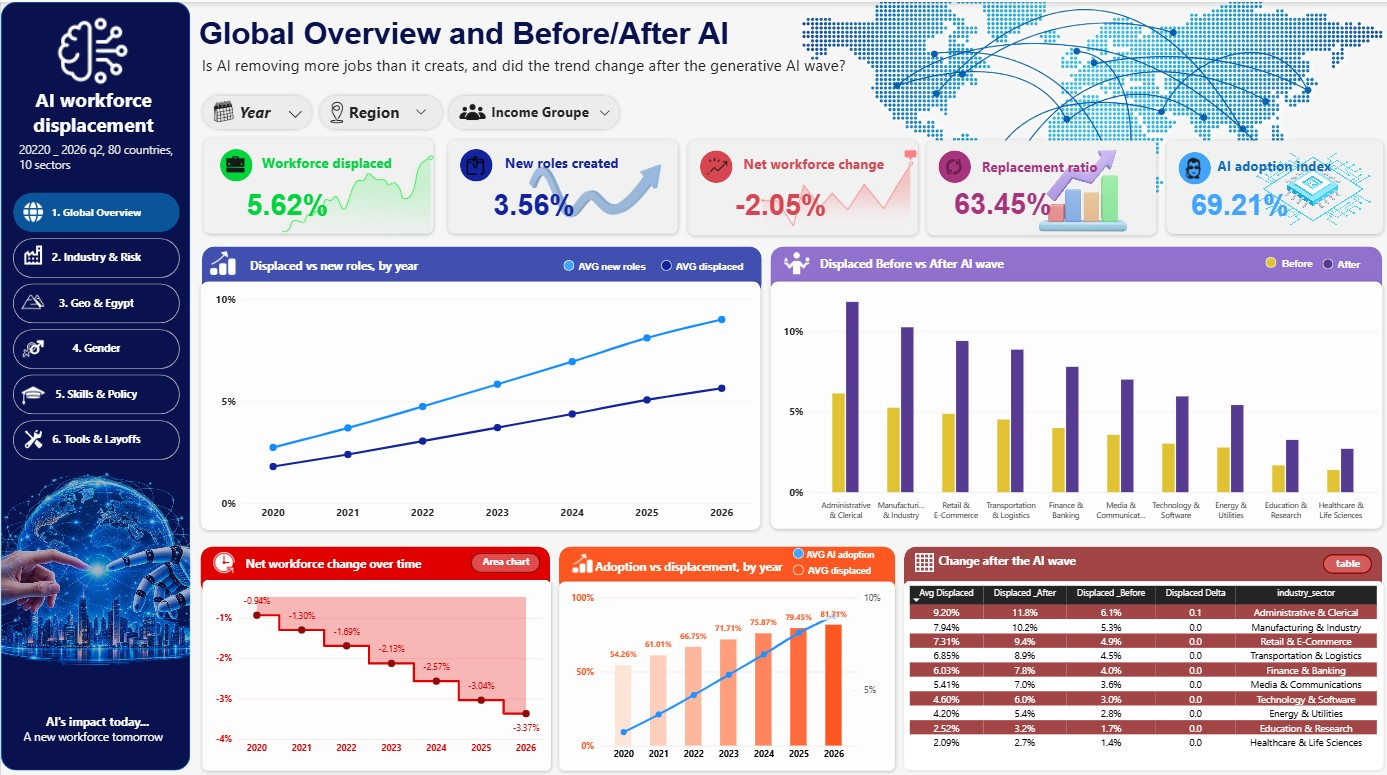

Layout of this report page (visuals, bound fields, positions):
{"tool":"powerbi","page":{"name":"1. Global Overview","canvas":[1920,1080],"ordinal":0},"visuals":[{"type":"shape","box":[0,0,262,1063.9],"z":0},{"type":"image","box":[1103,0,818,312.5],"z":1000},{"type":"textbox","box":[273.5,18.7,776.1,70.1],"z":2000},{"type":"shape","box":[274.4,124.4,161.1,56.7],"z":3000},{"type":"textbox","box":[278,73,958.2,46],"z":4000},{"type":"slicer","fields":{"Values":["year.year Hierarchy.year"]},"box":[295,132.5,133,44],"z":5000},{"type":"shape","box":[435.6,124.4,180,56.7],"z":6000},{"type":"image","box":[437.5,135,52.2,36.7],"z":7000},{"type":"slicer","fields":{"Values":["country.region"]},"box":[448.8,133.8,150,36.2],"z":8000},{"type":"shape","box":[615.6,124.4,246.7,56.7],"z":9000},{"type":"slicer","fields":{"Values":["country.income_group"]},"box":[656.7,135,196.7,36.7],"z":10000},{"type":"image","box":[627.5,133.8,51.1,36.7],"z":11000},{"type":"shape","box":[275,183,330.9,144.8],"z":12000},{"type":"textbox","box":[362.3,210.2,197.6,29.9],"z":13000},{"type":"shape","box":[302.7,204.2,45,45],"z":14000},{"type":"image","box":[367,208,257.1,117.1],"z":15000},{"type":"image","box":[310,210,30,33],"z":16000},{"type":"cardVisual","fields":{"Data":["_Measures.Avg Displaced"]},"box":[311.4,238.6,170,84.3],"z":17000},{"type":"shape","box":[612.7,185.3,330.9,142.5],"z":18000},{"type":"textbox","box":[697.7,210.6,176.9,29.9],"z":19000},{"type":"shape","box":[634.7,203.7,45,45],"z":20000},{"type":"image","box":[702.9,194.3,232.9,127.1],"z":21000},{"type":"image","box":[642,211,30,33],"z":22000},{"type":"shape","box":[318.8,137.5,27.5,35],"z":23000},{"type":"cardVisual","fields":{"Data":["_Measures.Avg New Roles"]},"box":[655.7,238.6,164.3,82.9],"z":24000},{"type":"image","box":[272.5,133.8,73.3,37.8],"z":25000},{"type":"textbox","box":[330,137.5,50,30],"z":26000},{"type":"shape","box":[680,137.5,25,35],"z":27000},{"type":"shape","box":[473.8,135,31.2,35],"z":28000},{"type":"textbox","box":[482.5,137.5,77.5,28.8],"z":29000},{"type":"textbox","box":[678.8,140,138.9,28.9],"z":30000},{"type":"shape","box":[944.3,185.7,330.9,144.8],"z":31000},{"type":"textbox","box":[1028.6,212.9,207.1,30],"z":32000},{"type":"shape","box":[968.6,205.7,45,45],"z":33000},{"type":"image","box":[975.6,211.1,30,33],"z":34000},{"type":"image","box":[1044.3,192.9,231.4,130],"z":35000},{"type":"cardVisual","fields":{"Data":["_Measures.Avg Net Change"]},"box":[995.7,238.6,170,84.3],"z":36000},{"type":"shape","box":[1275.7,185.7,330.9,144.8],"z":37000},{"type":"shape","box":[1297.1,205.7,45,45],"z":38000},{"type":"image","box":[1412.9,194.3,172.9,132.9],"z":39000},{"type":"image","box":[1305,212.5,30,33],"z":40000},{"type":"cardVisual","fields":{"Data":["_Measures.Replacement Ratio"]},"box":[1302.9,237.1,170,84.3],"z":41000},{"type":"textbox","box":[1358.6,215.7,197.6,29.9],"z":42000},{"type":"shape","box":[1607.1,185.7,312.9,142.9],"z":43000},{"type":"shape","box":[1630,207.1,45,45],"z":44000},{"type":"image","box":[1732.9,197.1,172.9,124.3],"z":45000},{"type":"image","box":[1637.5,213.8,30,33],"z":46000},{"type":"cardVisual","fields":{"Data":["_Measures.Avg AI Adoption"]},"box":[1630,238.6,170,84.3],"z":47000},{"type":"textbox","box":[1684.3,214.3,205.7,31.4],"z":48000},{"type":"shape","box":[278,338,775,68],"z":49000},{"type":"image","box":[284.9,342.4,45.7,40],"z":50000},{"type":"textbox","box":[344,354,348.6,31.4],"z":51000},{"type":"shape","box":[270,380,788,357.5],"z":52000},{"type":"lineChart","fields":{"Category":["year.year Hierarchy.year"],"Y":["_Measures.Avg Displaced","_Measures.Avg New Roles"]},"box":[280.3,386,775,351.6],"z":53000},{"type":"textbox","box":[934.4,355.3,97.1,31.4],"z":54000},{"type":"shape","box":[913,357.7,15,15],"z":55000},{"type":"textbox","box":[799,355.7,97.1,31.4],"z":56000},{"type":"shape","box":[779.4,357.4,15,15],"z":57000},{"type":"shape","box":[1066,338,847,69],"z":58000},{"type":"image","box":[1079.3,343,43,37],"z":59000},{"type":"textbox","box":[1133.3,352,348.6,31.4],"z":60000},{"type":"shape","box":[1060,380,860,356],"z":61000},{"type":"textbox","box":[1850,352.2,48.3,26.7],"z":62000},{"type":"shape","box":[1829.3,354.9,15,15],"z":63000},{"type":"textbox","box":[1773.2,351.8,46.4,21.4],"z":64000},{"type":"shape","box":[1750,353.6,15,15],"z":65000},{"type":"clusteredColumnChart","fields":{"Category":["sector.industry_sector"],"Y":["_Measures.Displaced _Before","_Measures.Displaced _After"]},"box":[1066.7,388.3,853.3,348.3],"z":66000},{"type":"shape","box":[277.1,754.3,484,67.1],"z":67000},{"type":"image","box":[291.1,760,36,32],"z":68000},{"type":"textbox","box":[338.3,766.7,266.7,26.7],"z":69000},{"type":"shape","box":[271.1,793.3,496,277.8],"z":70000},{"type":"shape","box":[650.2,762.1,97.1,28.6],"z":71000},{"type":"textbox","box":[667.5,763.8,80,25.7],"z":72000},{"type":"lineChart","fields":{"Category":["year.year"],"Y":["_Measures.Avg Net Change"]},"box":[280,802.5,487.5,260],"z":73000},{"type":"shape","box":[772.2,754.4,465.7,65.7],"z":74000},{"type":"image","box":[786.4,761.4,36,32],"z":75000},{"type":"textbox","box":[823.3,770,278.3,31.7],"z":76000},{"type":"shape","box":[765.7,795.7,478,275.7],"z":77000},{"type":"lineStackedColumnComboChart","fields":{"Category":["year.year"],"Y":["_Measures.Avg AI Adoption"],"Y2":["_Measures.Avg Displaced"]},"box":[772.2,802.2,463.3,268.9],"z":78000},{"type":"textbox","box":[1116.7,776.2,97.1,31.4],"z":79000},{"type":"shape","box":[1097.1,778.1,15,15],"z":80000},{"type":"textbox","box":[1115.2,754.8,114.3,31.4],"z":81000},{"type":"shape","box":[1096.2,756.7,15,15],"z":82000},{"type":"shape","box":[1250,754.4,662.2,66.7],"z":83000},{"type":"image","box":[1261.1,760,36,32],"z":84000},{"type":"textbox","box":[1298.9,762.2,348.6,31.4],"z":85000},{"type":"shape","box":[1828.9,763.3,68.9,27.8],"z":86000},{"type":"textbox","box":[1847.8,766.7,41.1,25.6],"z":87000},{"type":"tableEx","fields":{"Values":["_Measures.Avg Displaced","_Measures.Displaced _After","_Measures.Displaced _Before","_Measures.Displaced Delta","sector.industry_sector"]},"box":[1250,802.2,664,262],"z":88000},{"type":"image","box":[62,13.8,131,105.7],"z":89000},{"type":"textbox","box":[36.8,117.2,181.5,87.3],"z":90000},{"type":"textbox","box":[24.3,192.9,227.1,61.4],"z":91000},{"type":"textbox","box":[61.7,985,143.3,25],"z":92000},{"type":"textbox","box":[31.7,1005,203.3,33.3],"z":93000},{"type":"image","box":[0,641.1,262,291.8],"z":94000},{"type":"pageNavigator","box":[16.2,263.2,231.2,371.2],"z":95000},{"type":"image","box":[27.7,273.9,35,33],"z":96000},{"type":"image","box":[27.7,334.9,35,33],"z":97000},{"type":"image","box":[27.7,398.9,35,33],"z":98000},{"type":"image","box":[27.7,462.9,35,33],"z":99000},{"type":"image","box":[27.7,526.9,35,33],"z":100000},{"type":"image","box":[29.7,589.9,32,31],"z":101000}]}

Visuals, with their boxes on the page's 1920x1080 design canvas (x1, y1, x2, y2). These are canvas units, not pixel positions in the 1387x775 screenshot, which may show the page scaled, cropped or inside an application window:
shape: box(0, 0, 262, 1064)
image: box(1103, 0, 1921, 312)
textbox: box(274, 19, 1050, 89)
shape: box(274, 124, 436, 181)
textbox: box(278, 73, 1236, 119)
slicer - year.year Hierarchy.year: box(295, 132, 428, 176)
shape: box(436, 124, 616, 181)
image: box(438, 135, 490, 172)
slicer - country.region: box(449, 134, 599, 170)
shape: box(616, 124, 862, 181)
slicer - country.income_group: box(657, 135, 853, 172)
image: box(628, 134, 679, 170)
shape: box(275, 183, 606, 328)
textbox: box(362, 210, 560, 240)
shape: box(303, 204, 348, 249)
image: box(367, 208, 624, 325)
image: box(310, 210, 340, 243)
cardVisual - _Measures.Avg Displaced: box(311, 239, 481, 323)
shape: box(613, 185, 944, 328)
textbox: box(698, 211, 875, 240)
shape: box(635, 204, 680, 249)
image: box(703, 194, 936, 321)
image: box(642, 211, 672, 244)
shape: box(319, 138, 346, 172)
cardVisual - _Measures.Avg New Roles: box(656, 239, 820, 322)
image: box(272, 134, 346, 172)
textbox: box(330, 138, 380, 168)
shape: box(680, 138, 705, 172)
shape: box(474, 135, 505, 170)
textbox: box(482, 138, 560, 166)
textbox: box(679, 140, 818, 169)
shape: box(944, 186, 1275, 330)
textbox: box(1029, 213, 1236, 243)
shape: box(969, 206, 1014, 251)
image: box(976, 211, 1006, 244)
image: box(1044, 193, 1276, 323)
cardVisual - _Measures.Avg Net Change: box(996, 239, 1166, 323)
shape: box(1276, 186, 1607, 330)
shape: box(1297, 206, 1342, 251)
image: box(1413, 194, 1586, 327)
image: box(1305, 212, 1335, 246)
cardVisual - _Measures.Replacement Ratio: box(1303, 237, 1473, 321)
textbox: box(1359, 216, 1556, 246)
shape: box(1607, 186, 1920, 329)
shape: box(1630, 207, 1675, 252)
image: box(1733, 197, 1906, 321)
image: box(1638, 214, 1668, 247)
cardVisual - _Measures.Avg AI Adoption: box(1630, 239, 1800, 323)
textbox: box(1684, 214, 1890, 246)
shape: box(278, 338, 1053, 406)
image: box(285, 342, 331, 382)
textbox: box(344, 354, 693, 385)
shape: box(270, 380, 1058, 738)
lineChart - year.year Hierarchy.year x _Measures.Avg Displaced: box(280, 386, 1055, 738)
textbox: box(934, 355, 1032, 387)
shape: box(913, 358, 928, 373)
textbox: box(799, 356, 896, 387)
shape: box(779, 357, 794, 372)
shape: box(1066, 338, 1913, 407)
image: box(1079, 343, 1122, 380)
textbox: box(1133, 352, 1482, 383)
shape: box(1060, 380, 1920, 736)
textbox: box(1850, 352, 1898, 379)
shape: box(1829, 355, 1844, 370)
textbox: box(1773, 352, 1820, 373)
shape: box(1750, 354, 1765, 369)
clusteredColumnChart - sector.industry_sector x _Measures.Displaced _Before: box(1067, 388, 1920, 737)
shape: box(277, 754, 761, 821)
image: box(291, 760, 327, 792)
textbox: box(338, 767, 605, 793)
shape: box(271, 793, 767, 1071)
shape: box(650, 762, 747, 791)
textbox: box(668, 764, 748, 790)
lineChart - year.year x _Measures.Avg Net Change: box(280, 802, 768, 1062)
shape: box(772, 754, 1238, 820)
image: box(786, 761, 822, 793)
textbox: box(823, 770, 1102, 802)
shape: box(766, 796, 1244, 1071)
lineStackedColumnComboChart - year.year x _Measures.Avg AI Adoption: box(772, 802, 1236, 1071)
textbox: box(1117, 776, 1214, 808)
shape: box(1097, 778, 1112, 793)
textbox: box(1115, 755, 1230, 786)
shape: box(1096, 757, 1111, 772)
shape: box(1250, 754, 1912, 821)
image: box(1261, 760, 1297, 792)
textbox: box(1299, 762, 1648, 794)
shape: box(1829, 763, 1898, 791)
textbox: box(1848, 767, 1889, 792)
tableEx - _Measures.Avg Displaced x _Measures.Displaced _After: box(1250, 802, 1914, 1064)
image: box(62, 14, 193, 120)
textbox: box(37, 117, 218, 204)
textbox: box(24, 193, 251, 254)
textbox: box(62, 985, 205, 1010)
textbox: box(32, 1005, 235, 1038)
image: box(0, 641, 262, 933)
pageNavigator: box(16, 263, 247, 634)
image: box(28, 274, 63, 307)
image: box(28, 335, 63, 368)
image: box(28, 399, 63, 432)
image: box(28, 463, 63, 496)
image: box(28, 527, 63, 560)
image: box(30, 590, 62, 621)
